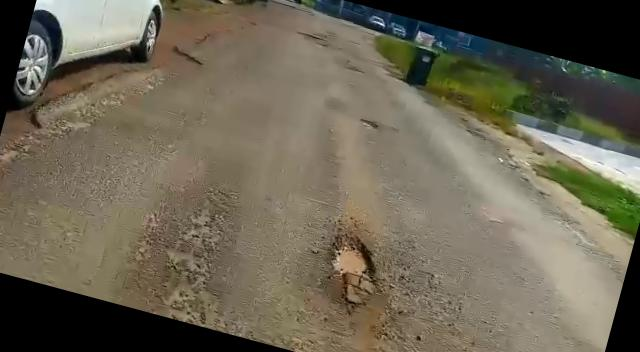pothole: (311, 228, 392, 314)
